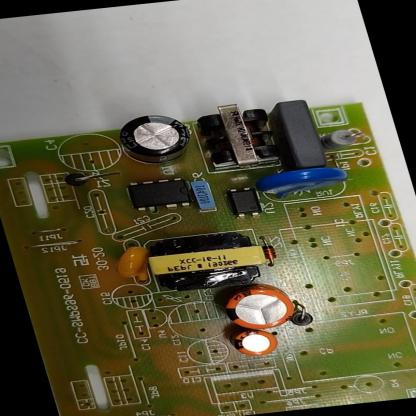Cap1: (219, 282, 299, 332)
Cap2: (228, 328, 281, 358)
Cap3: (113, 112, 197, 166)
MOSFET: (126, 176, 192, 212)
Mov: (257, 164, 351, 198)
Resistor: (320, 127, 365, 151)
Transformer: (139, 229, 272, 293), (193, 102, 278, 168)
